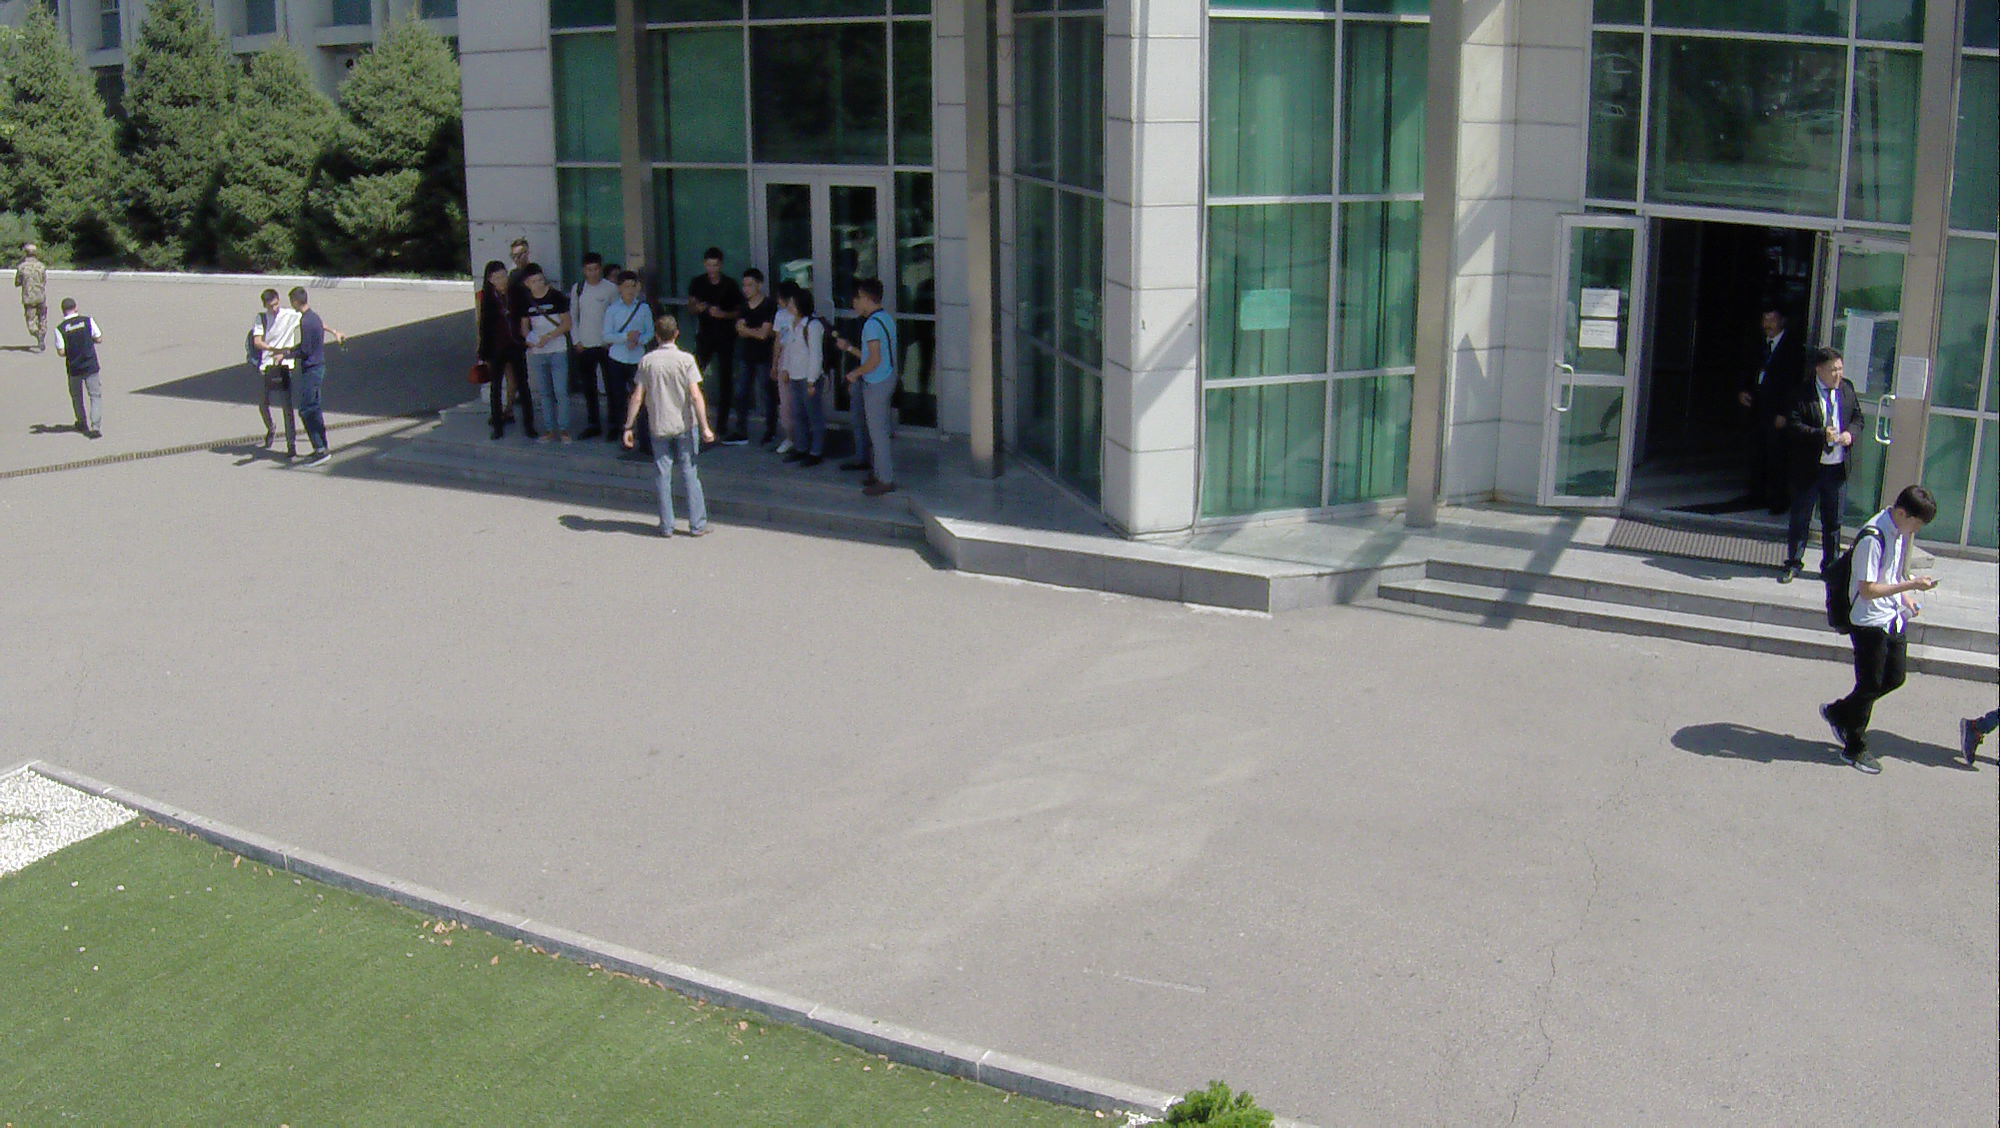person: (1803, 483, 1943, 780), (1774, 351, 1868, 580), (628, 316, 720, 535), (228, 293, 299, 470), (566, 247, 626, 430), (518, 270, 578, 445), (289, 280, 341, 472), (1745, 293, 1787, 528), (855, 278, 899, 491), (479, 268, 533, 443), (785, 287, 835, 464), (728, 272, 782, 437), (55, 287, 110, 445), (608, 272, 654, 449), (16, 241, 51, 360), (685, 245, 722, 326), (503, 236, 546, 276)
